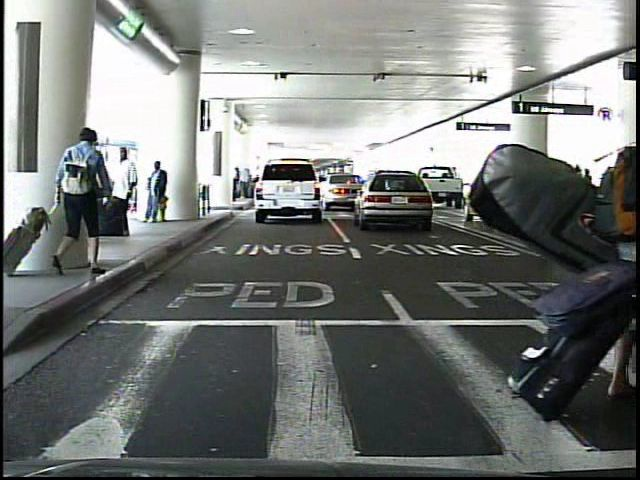person: (57, 126, 105, 278), (109, 146, 135, 239), (144, 162, 171, 229), (566, 164, 581, 213), (580, 167, 594, 211)
